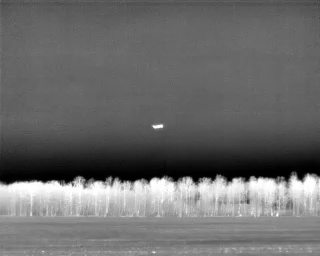DRONE: (148, 118, 168, 134)
